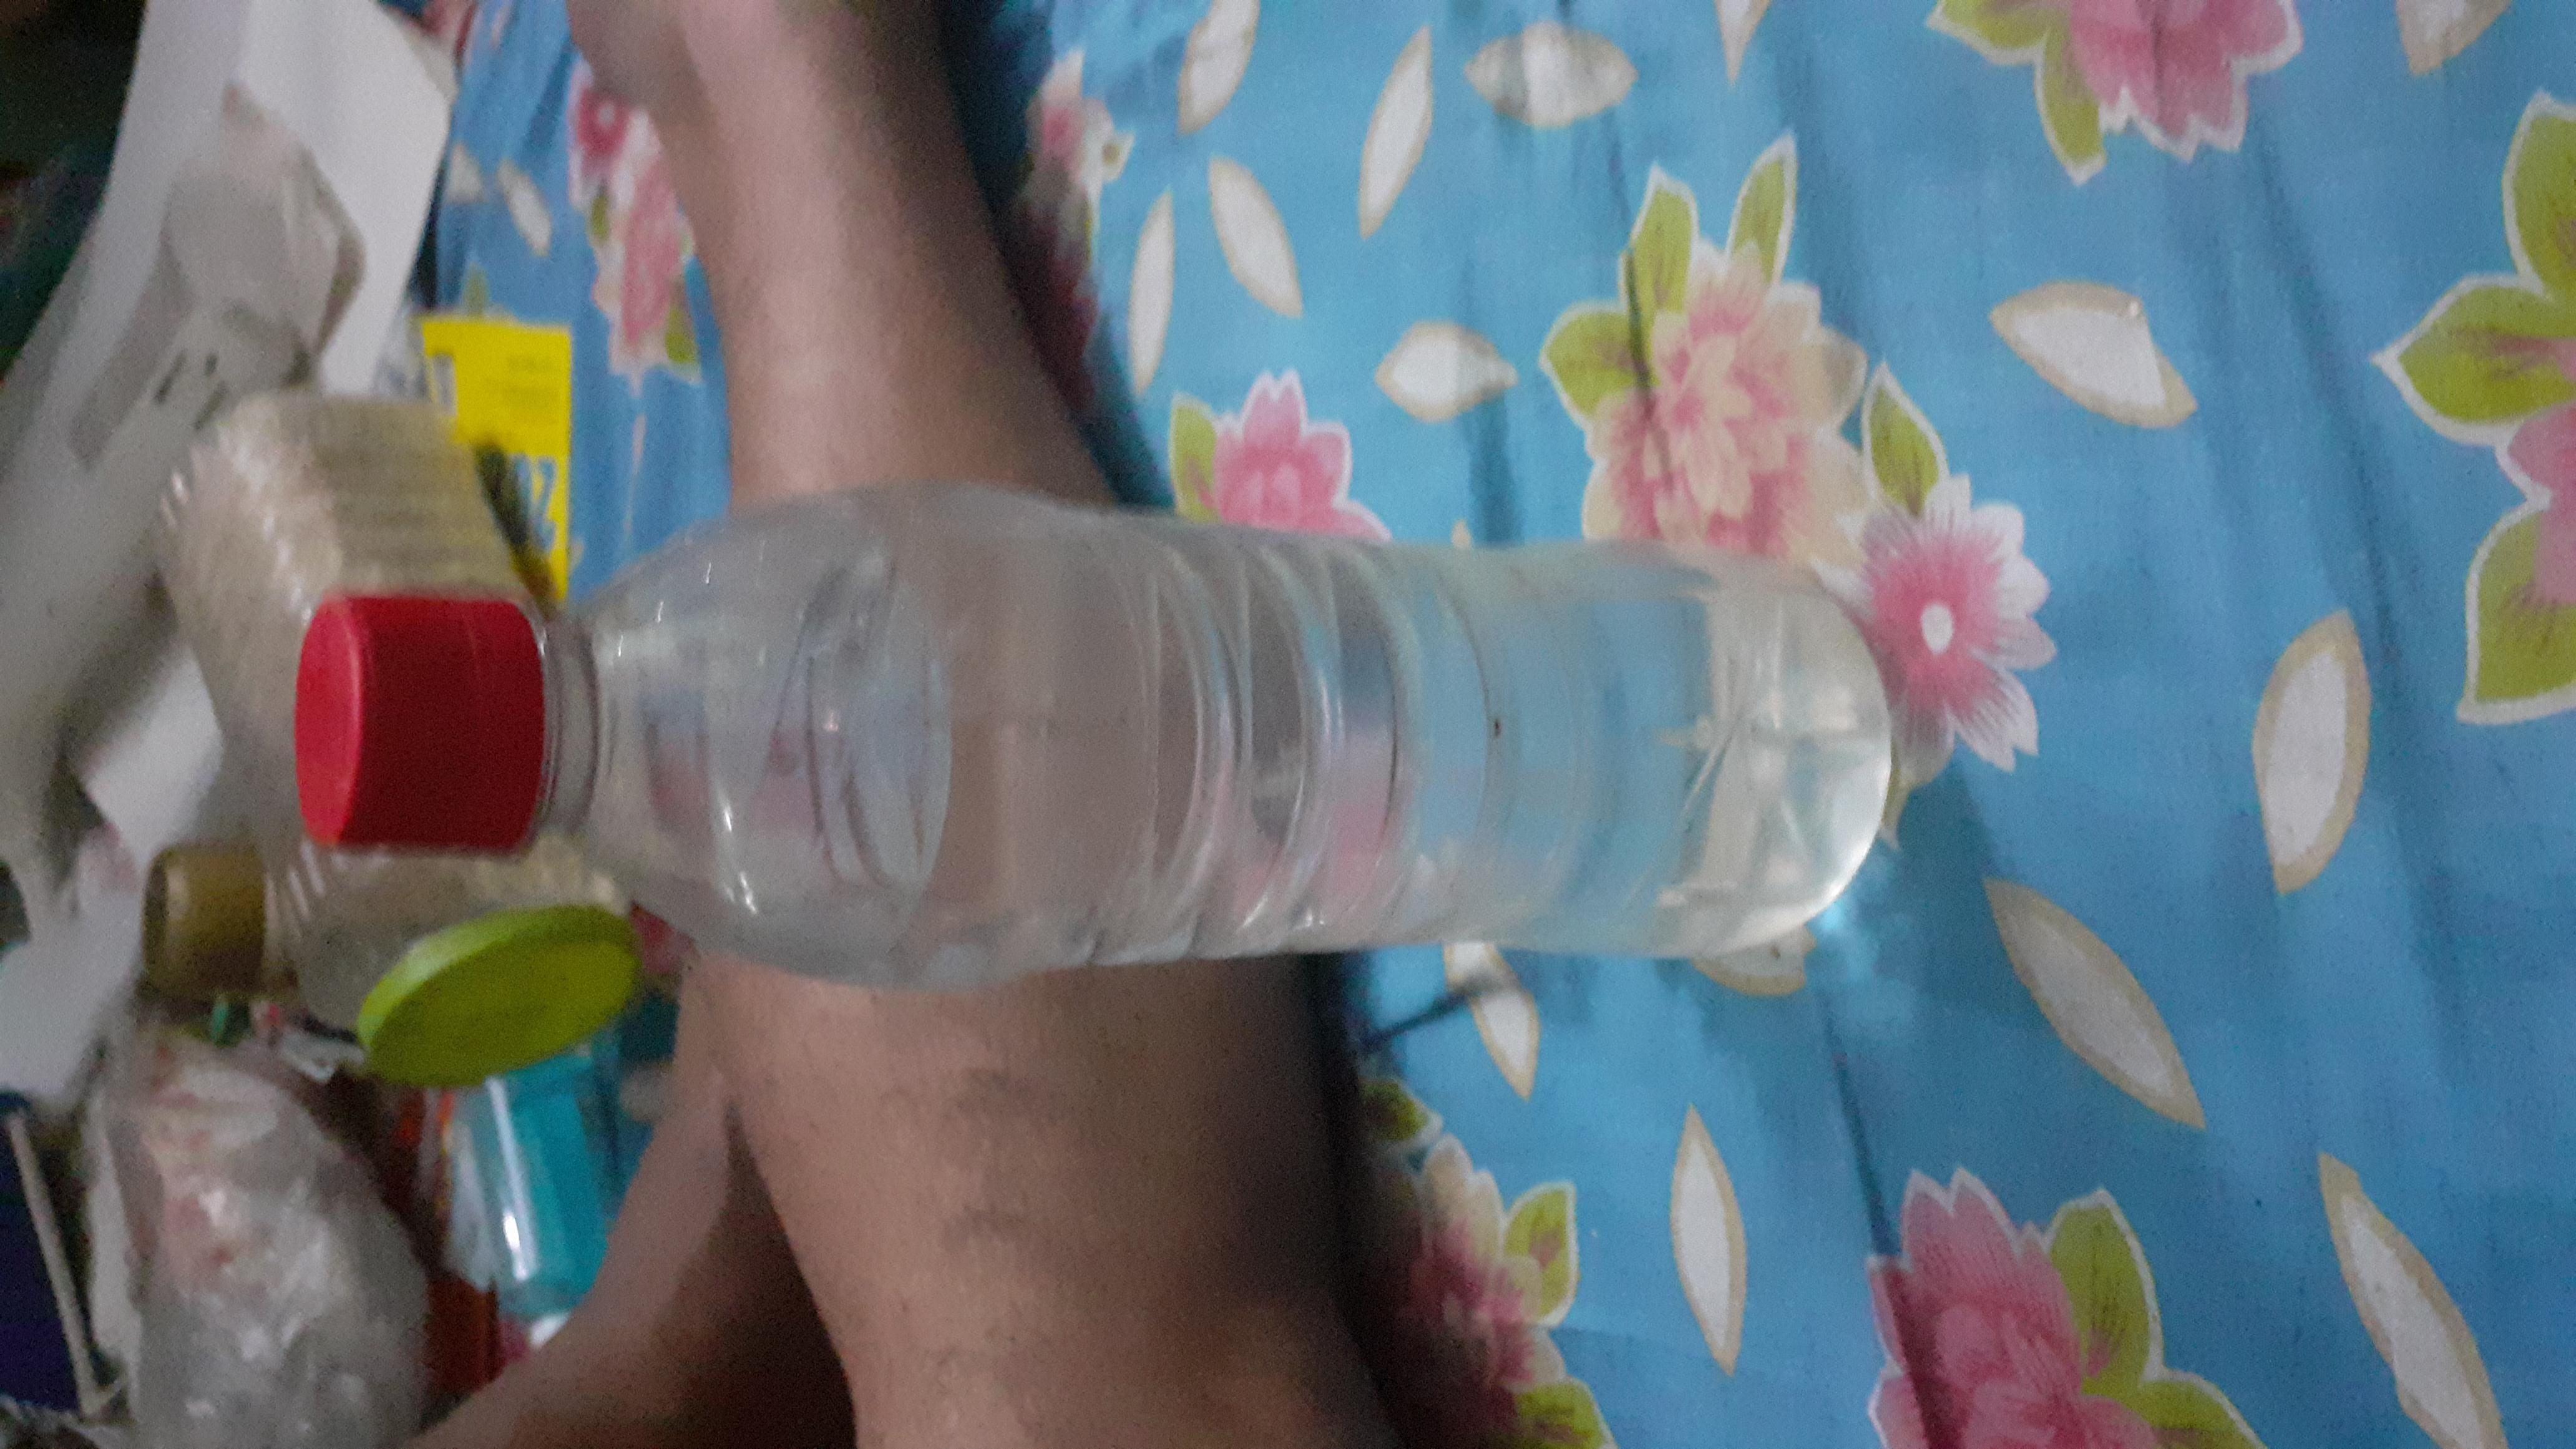bottle: (515, 156, 1596, 1070)
